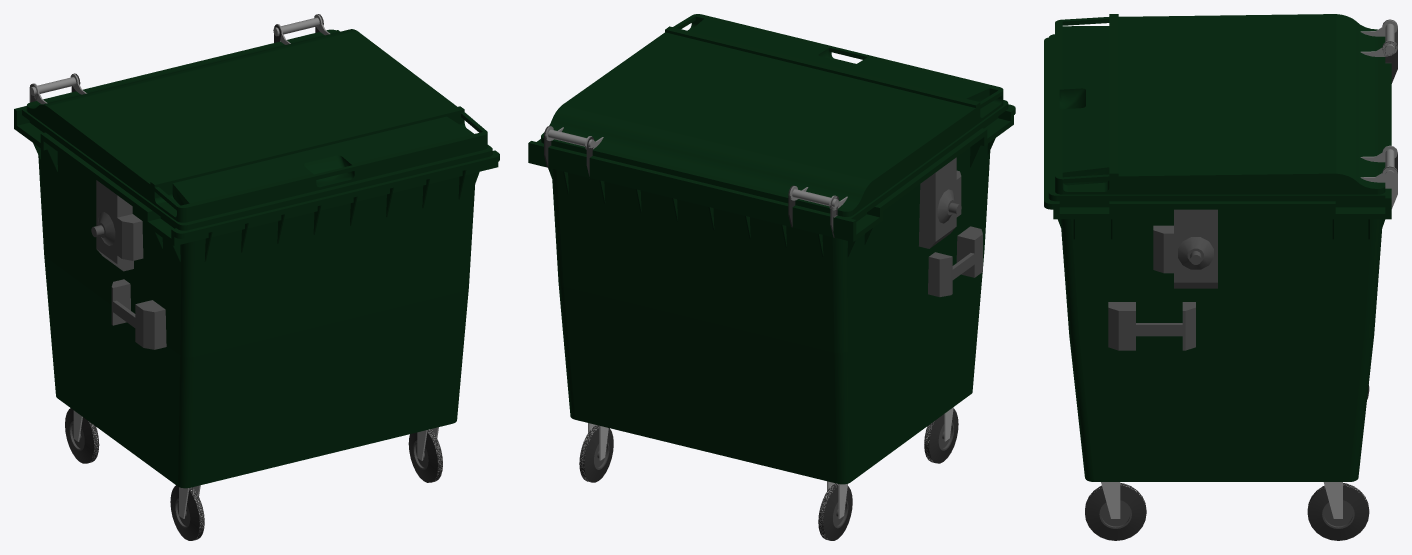
The model's file is garbagegreen.fbx.
3 views of the same model, side by side, from view 1: azimuth 30°, elevation 25°; view 2: azimuth 150°, elevation 25°; view 3: azimuth 270°, elevation 25° (orthographic). The views are drawn at different scales.
Visible parts, largest first — view 1: group_1.001; view 2: group_1.001; view 3: group_1.001.
Boxes of the visible parts, x1=… form: group_1.001: x1=14, y1=14, x2=499, y2=540; group_1.001: x1=528, y1=14, x2=1015, y2=540; group_1.001: x1=1044, y1=14, x2=1397, y2=540.
Bounding box in the file's own units: 137 × 137 × 114.
